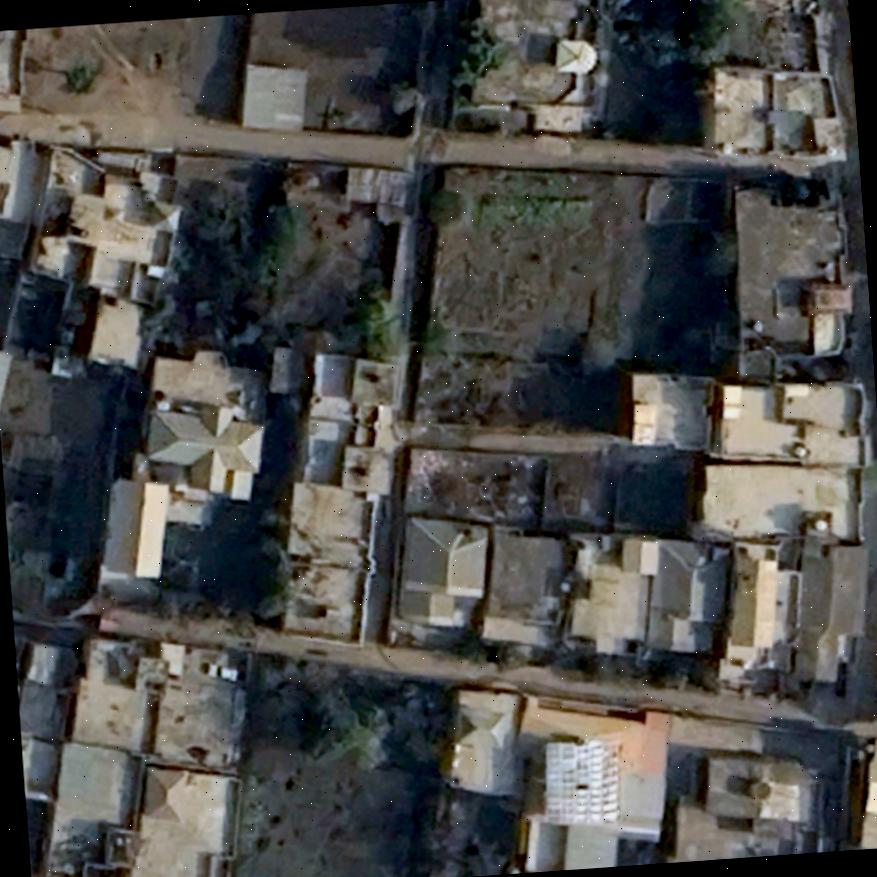Solarpanel: (536, 734, 624, 830)
